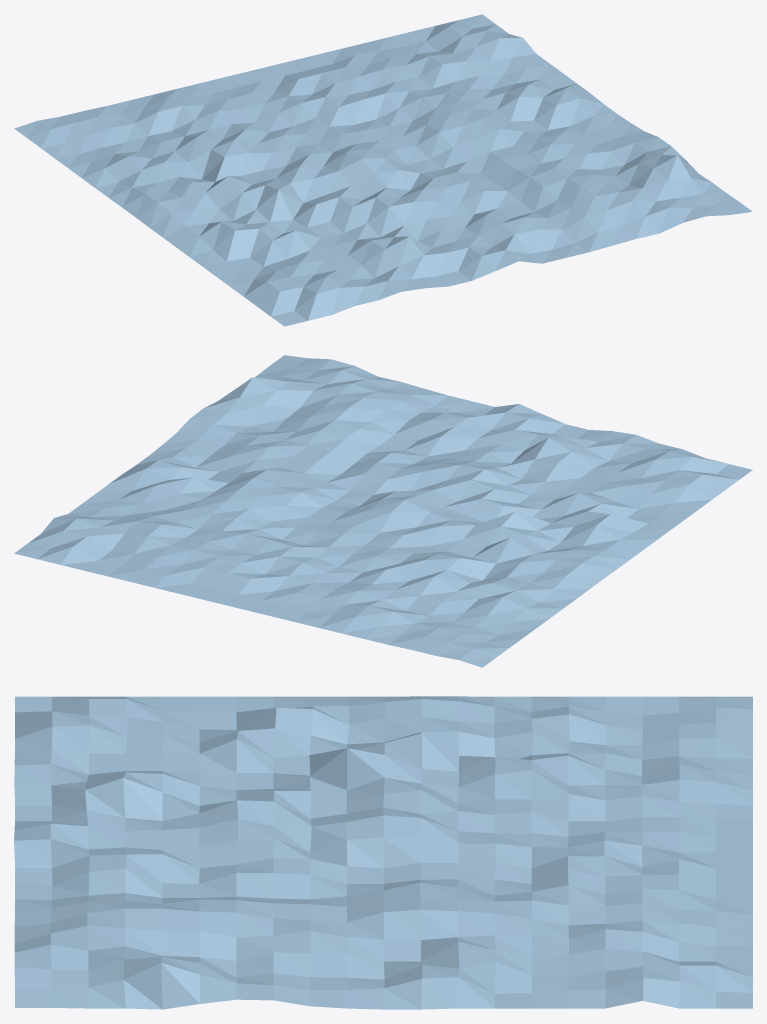
The model's file is CUPIC_OCEAN.gltf.
3 renders of one model, top to bottom at view 1: azimuth 30°, elevation 25°; view 2: azimuth 150°, elevation 25°; view 3: azimuth 270°, elevation 25°, orthographic. The views are drawn at different scales.
Parts seen in each view (by area): view 1: node-0; view 2: node-0; view 3: node-0.
Boxes of the visible parts, x1=… form: node-0: x1=14, y1=14, x2=752, y2=326; node-0: x1=14, y1=355, x2=752, y2=667; node-0: x1=14, y1=696, x2=752, y2=1009.
Bounding box in the file's own units: 2002 × 111 × 2003.
